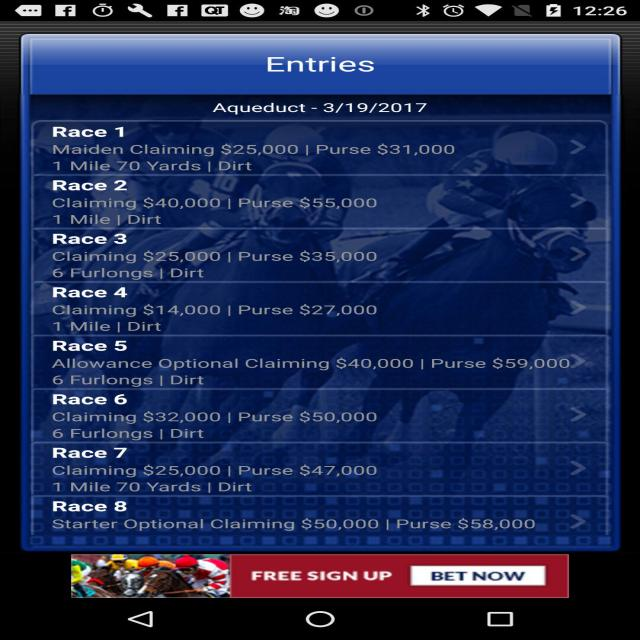image: (62, 554, 571, 593)
text: (40, 123, 592, 544), (209, 98, 453, 119), (244, 50, 405, 80)
